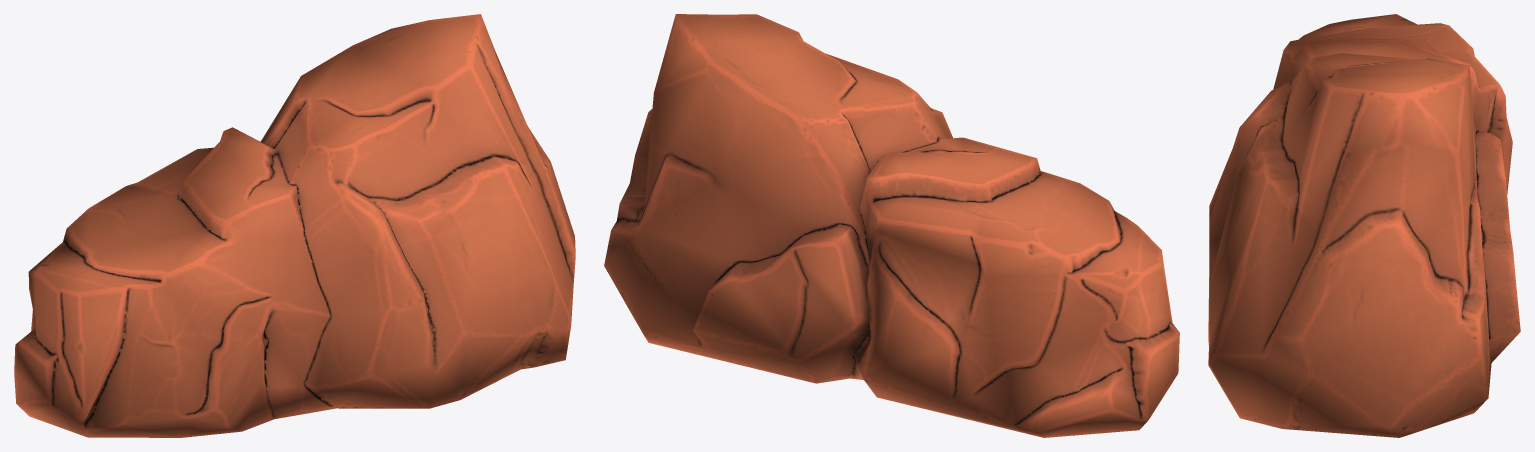
File: sandstone__rock__desert.glb
3 renders of one model, left to right at view 1: azimuth 30°, elevation 25°; view 2: azimuth 150°, elevation 25°; view 3: azimuth 270°, elevation 25°, orthographic. The views are drawn at different scales.
Parts seen in each view (by area): view 1: rock_15; view 2: rock_15; view 3: rock_15.
Boxes of the visible parts, <box> form: rock_15: <box>14,14,575,437</box>; rock_15: <box>604,14,1179,437</box>; rock_15: <box>1208,14,1520,437</box>.
Bounding box in the file's own units: 3.53 × 1.95 × 1.72.
Materials: 1 (1 with a texture image).
